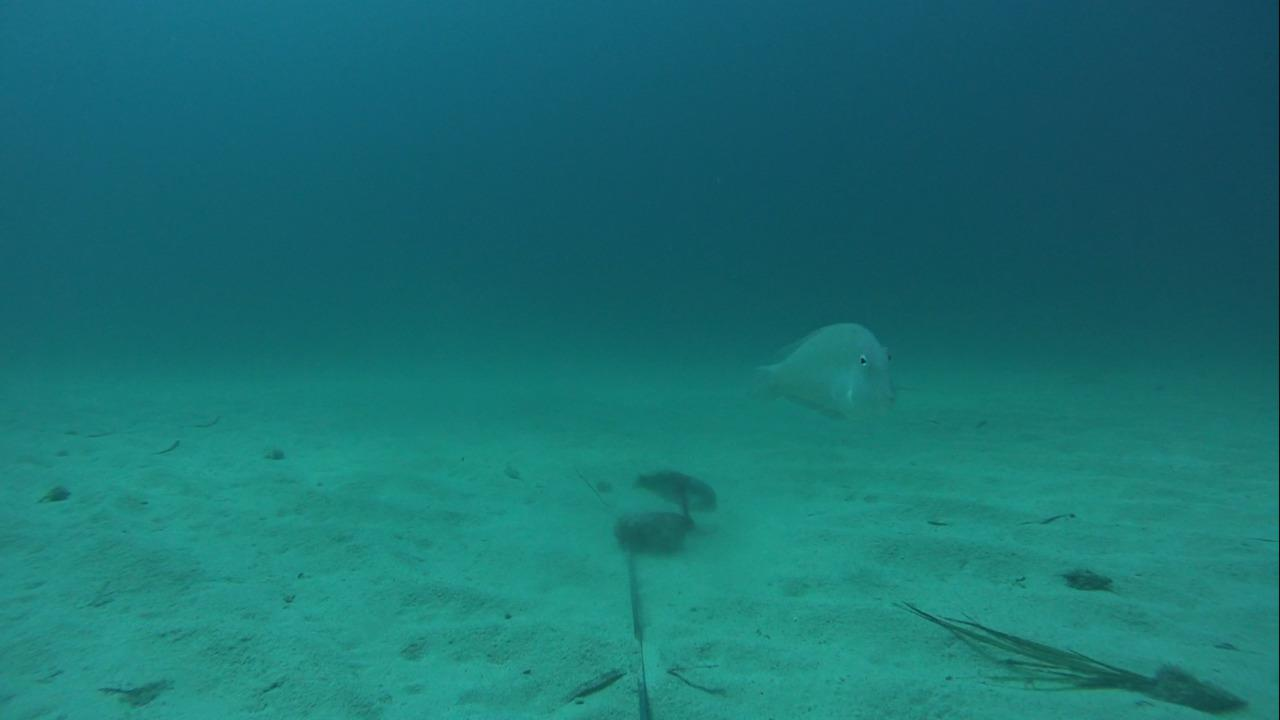raor: (742, 316, 904, 427), (630, 462, 725, 523)
